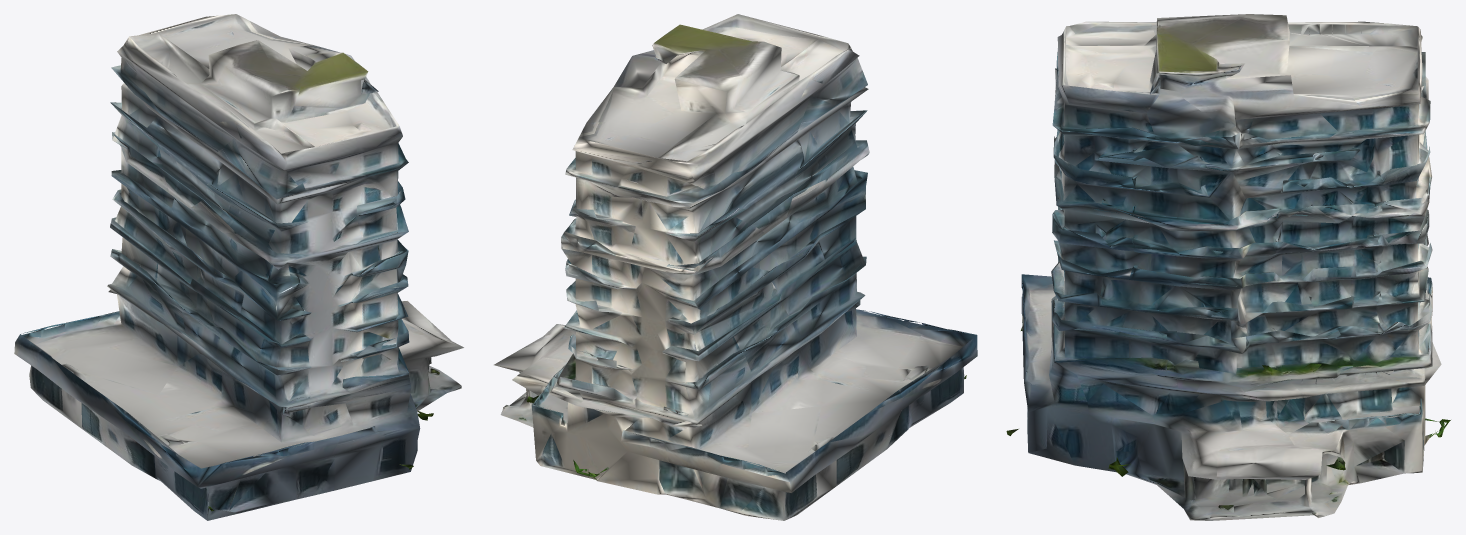
The model's file is haus_hotel.glb.
3 views of the same model, side by side, from view 1: azimuth 30°, elevation 25°; view 2: azimuth 150°, elevation 25°; view 3: azimuth 270°, elevation 25° (orthographic). The views are drawn at different scales.
Parts seen in each view (by area): view 1: tripo_node_cbb2069f-4bdf-413a-b915-1366f613abee; view 2: tripo_node_cbb2069f-4bdf-413a-b915-1366f613abee; view 3: tripo_node_cbb2069f-4bdf-413a-b915-1366f613abee.
Part boxes in pixels (left/top/right/bottom): tripo_node_cbb2069f-4bdf-413a-b915-1366f613abee: left=14, top=14, right=463, bottom=520; tripo_node_cbb2069f-4bdf-413a-b915-1366f613abee: left=494, top=14, right=977, bottom=520; tripo_node_cbb2069f-4bdf-413a-b915-1366f613abee: left=1006, top=14, right=1450, bottom=520.
Size of the model in its own units: 0.9466 by 0.9356 by 0.9573.
Materials: 1 (1 with a texture image).
